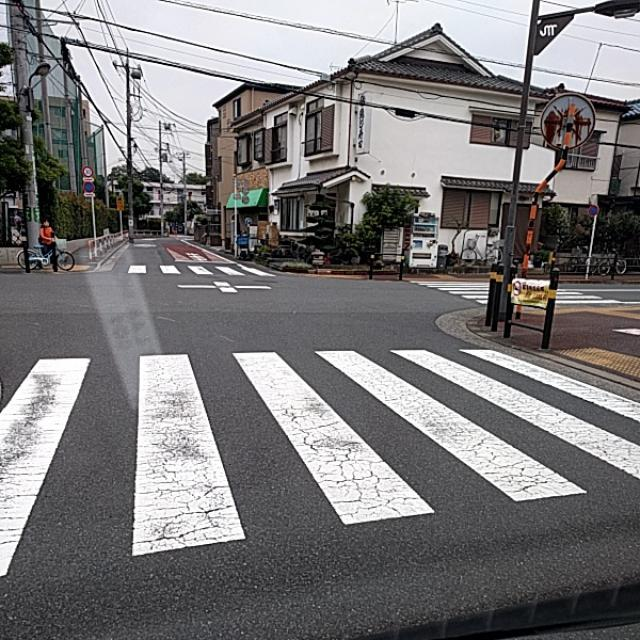pothole: (148, 416, 201, 539)
